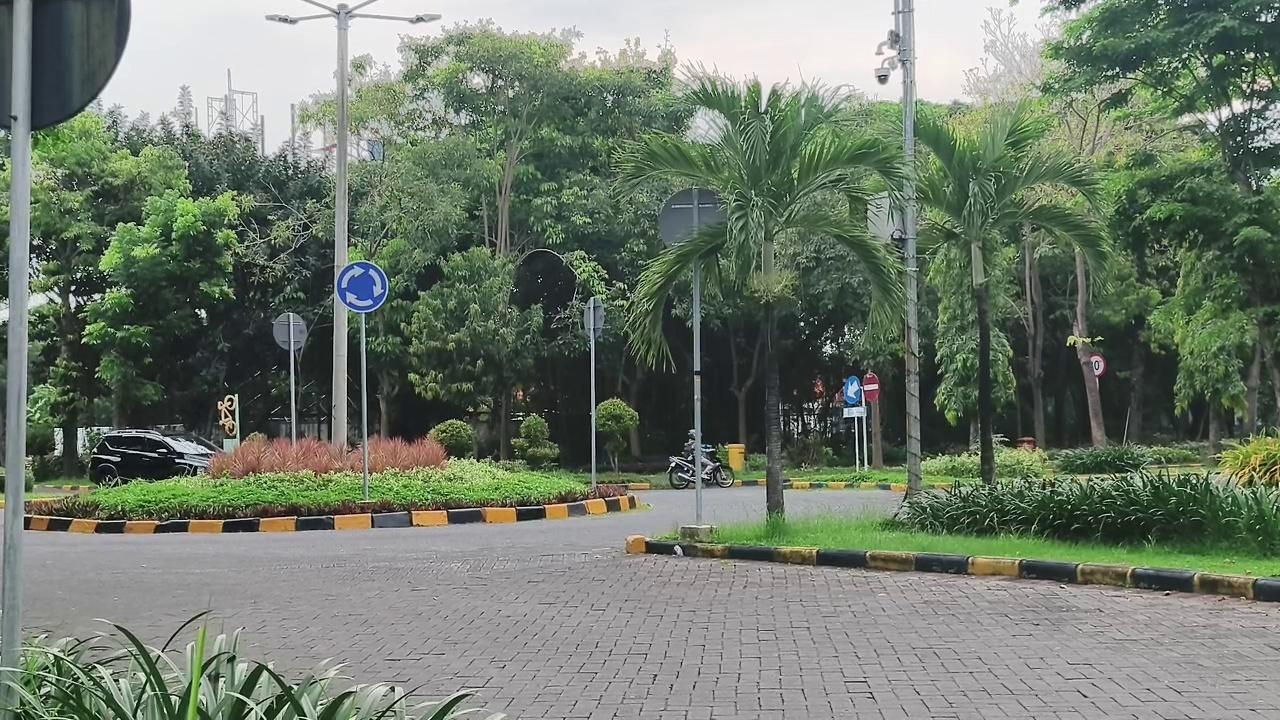Motor: (702, 446, 735, 487)
